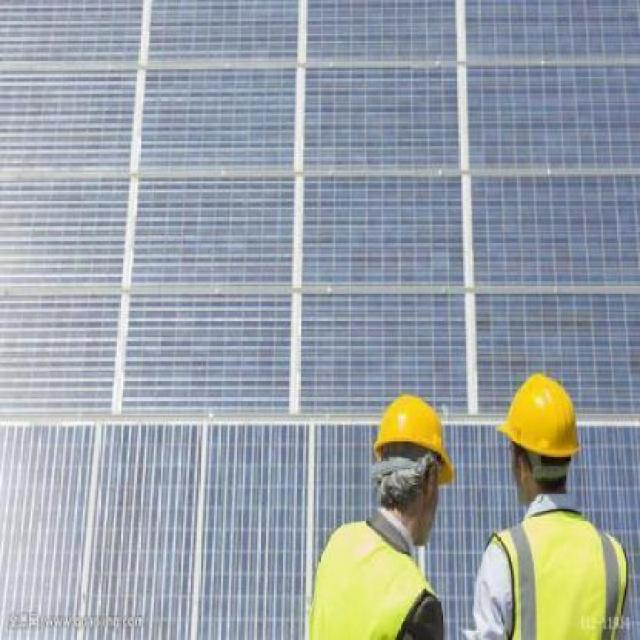Helmet: (368, 385, 466, 547), (487, 363, 584, 508)
Vest: (486, 509, 631, 638), (302, 517, 446, 638)
